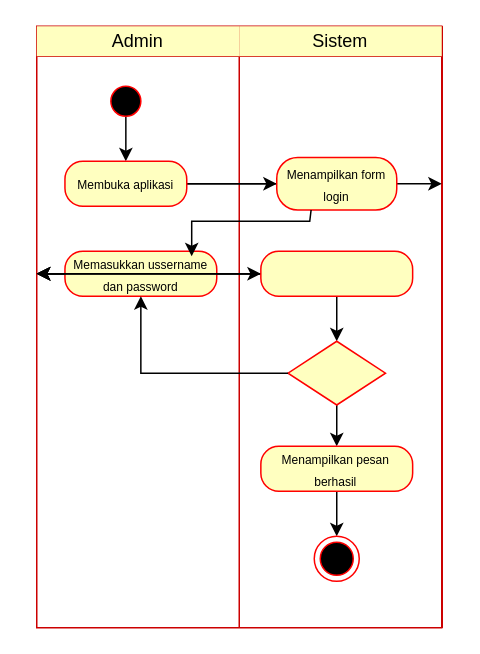
This 480x654 diagram has some shape labels left out. The shapes that lost their labels are listed below. From the top down, each one's centre as x and y in pixels, then its label:
At [336,273]: "Melaukakan pengecekan data".
At [336,372]: "Data Valid?".
